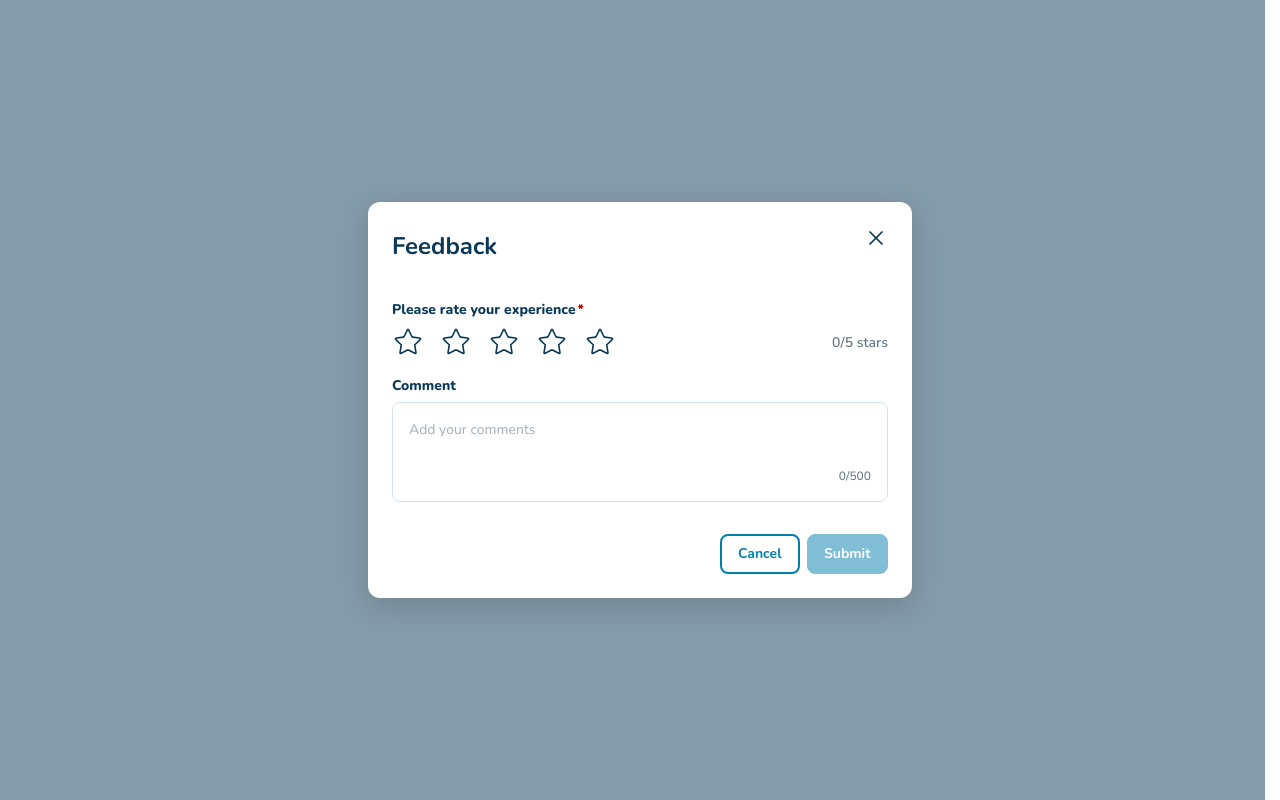
it: FeedbackModal Component - Edge Cases & Interactions (MR 2) › edge case: ratings 4-5 enable Submit immediately without warning even with empty comment
The width and height of the screenshot is (1280, 800).
Click the button with test id "feedback-star-5": click(600, 342) 584,326 -> 616,358
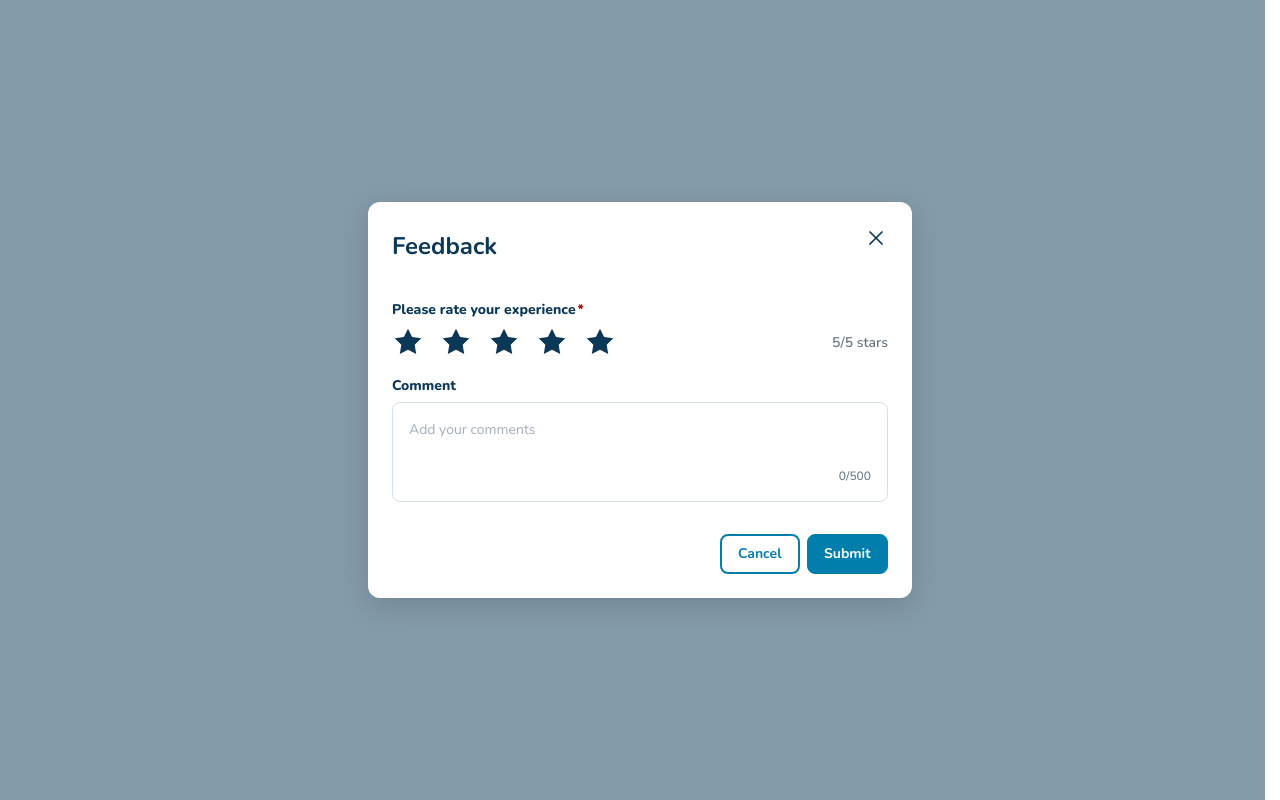
Expected: the text with test id "feedback-stars-text" reads "5/5 stars", 832,332 -> 888,352
Expected: the button with test id "feedback-submit-btn" is enabled, 807,534 -> 888,574
